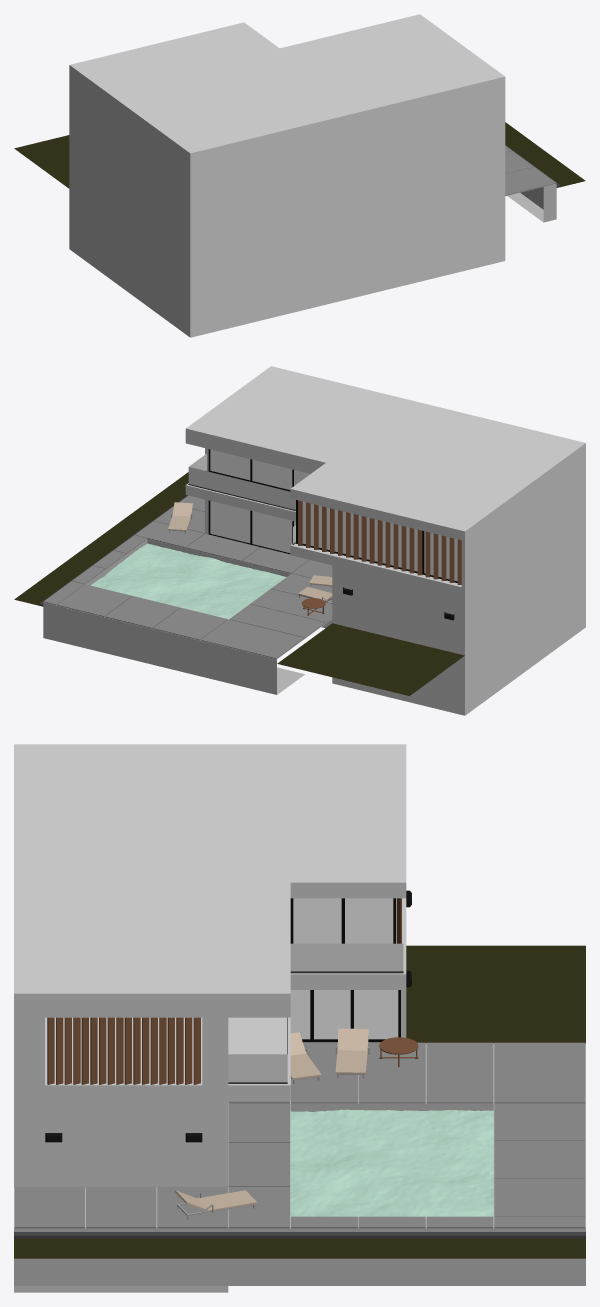
Rendered from mato.obj.
3 renders of one model, top to bottom at view 1: azimuth 30°, elevation 25°; view 2: azimuth 150°, elevation 25°; view 3: azimuth 270°, elevation 25°, orthographic. The views are drawn at different scales.
Visible parts, largest first — view 1: p1-2, p-1, p0, p1, p0-1, Grass_1, Grass_1.001, Tiles, p-ext; view 2: p1-2, Tiles, p0, p-1, p-ext, Pool_Water, Grass_1.001, p1, MetablBars_1, p0-1, Grass_1, Window.004 (+4 smaller); view 3: p1-2, Tiles, Pool_Water, p-ext, p0, Grass_1.001, p0-1, Grass_1, MetablBars_1.002, p1, Window.001, RailGlass (+6 smaller).
Boxes of the visible parts, x1=… form: p1-2: x1=69, y1=14, x2=505, y2=162; p-1: x1=69, y1=185, x2=505, y2=337; p0: x1=69, y1=131, x2=505, y2=272; p1: x1=69, y1=74, x2=505, y2=209; p0-1: x1=69, y1=121, x2=505, y2=219; Grass_1: x1=505, y1=122, x2=585, y2=186; Grass_1.001: x1=14, y1=135, x2=69, y2=188; Tiles: x1=505, y1=146, x2=556, y2=195; p-ext: x1=506, y1=183, x2=556, y2=222; p1-2: x1=185, y1=366, x2=585, y2=540; Tiles: x1=43, y1=495, x2=332, y2=658; p0: x1=205, y1=499, x2=585, y2=650; p-1: x1=321, y1=563, x2=585, y2=715; p-ext: x1=43, y1=538, x2=331, y2=694; Pool_Water: x1=91, y1=543, x2=286, y2=619; Grass_1.001: x1=277, y1=623, x2=464, y2=695; p1: x1=205, y1=448, x2=585, y2=587; MetablBars_1: x1=298, y1=500, x2=461, y2=584; p0-1: x1=185, y1=483, x2=585, y2=597; Grass_1: x1=14, y1=472, x2=188, y2=605; Window.004: x1=297, y1=500, x2=457, y2=582; p1-2: x1=14, y1=744, x2=406, y2=1017; Tiles: x1=14, y1=1042, x2=585, y2=1228; Pool_Water: x1=290, y1=1109, x2=493, y2=1217; p-ext: x1=14, y1=1043, x2=585, y2=1285; p0: x1=14, y1=990, x2=406, y2=1187; Grass_1.001: x1=406, y1=945, x2=585, y2=1043; p0-1: x1=14, y1=898, x2=406, y2=1100; Grass_1: x1=14, y1=1238, x2=585, y2=1258; MetablBars_1.002: x1=47, y1=1017, x2=200, y2=1084; p1: x1=14, y1=1009, x2=228, y2=1085; Window.001: x1=290, y1=990, x2=400, y2=1042; RailGlass: x1=228, y1=943, x2=403, y2=1082.
Size of the model in its own units: 19.38 by 8.63 by 14.96.
